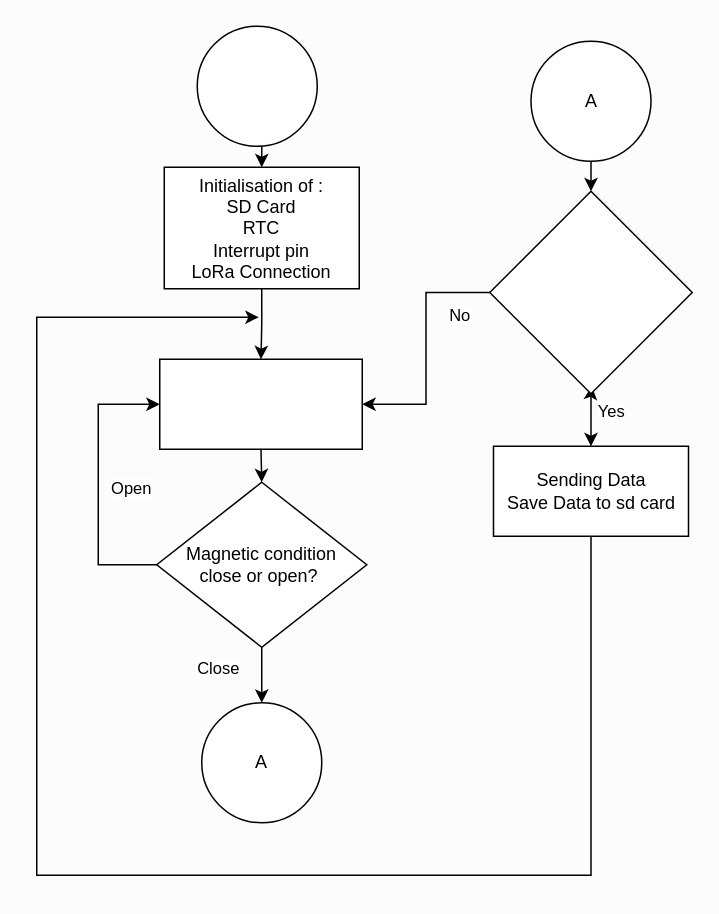
Image size: 719x914. Some labels were removed from this diagram. Each missing label, with the centre of its shape:
"Check RTC if 10 minutes has passed" belongs at point (590, 292).
"checking interrupt event from reed switc" belongs at point (260, 403).
"Start" belongs at point (256, 85).
